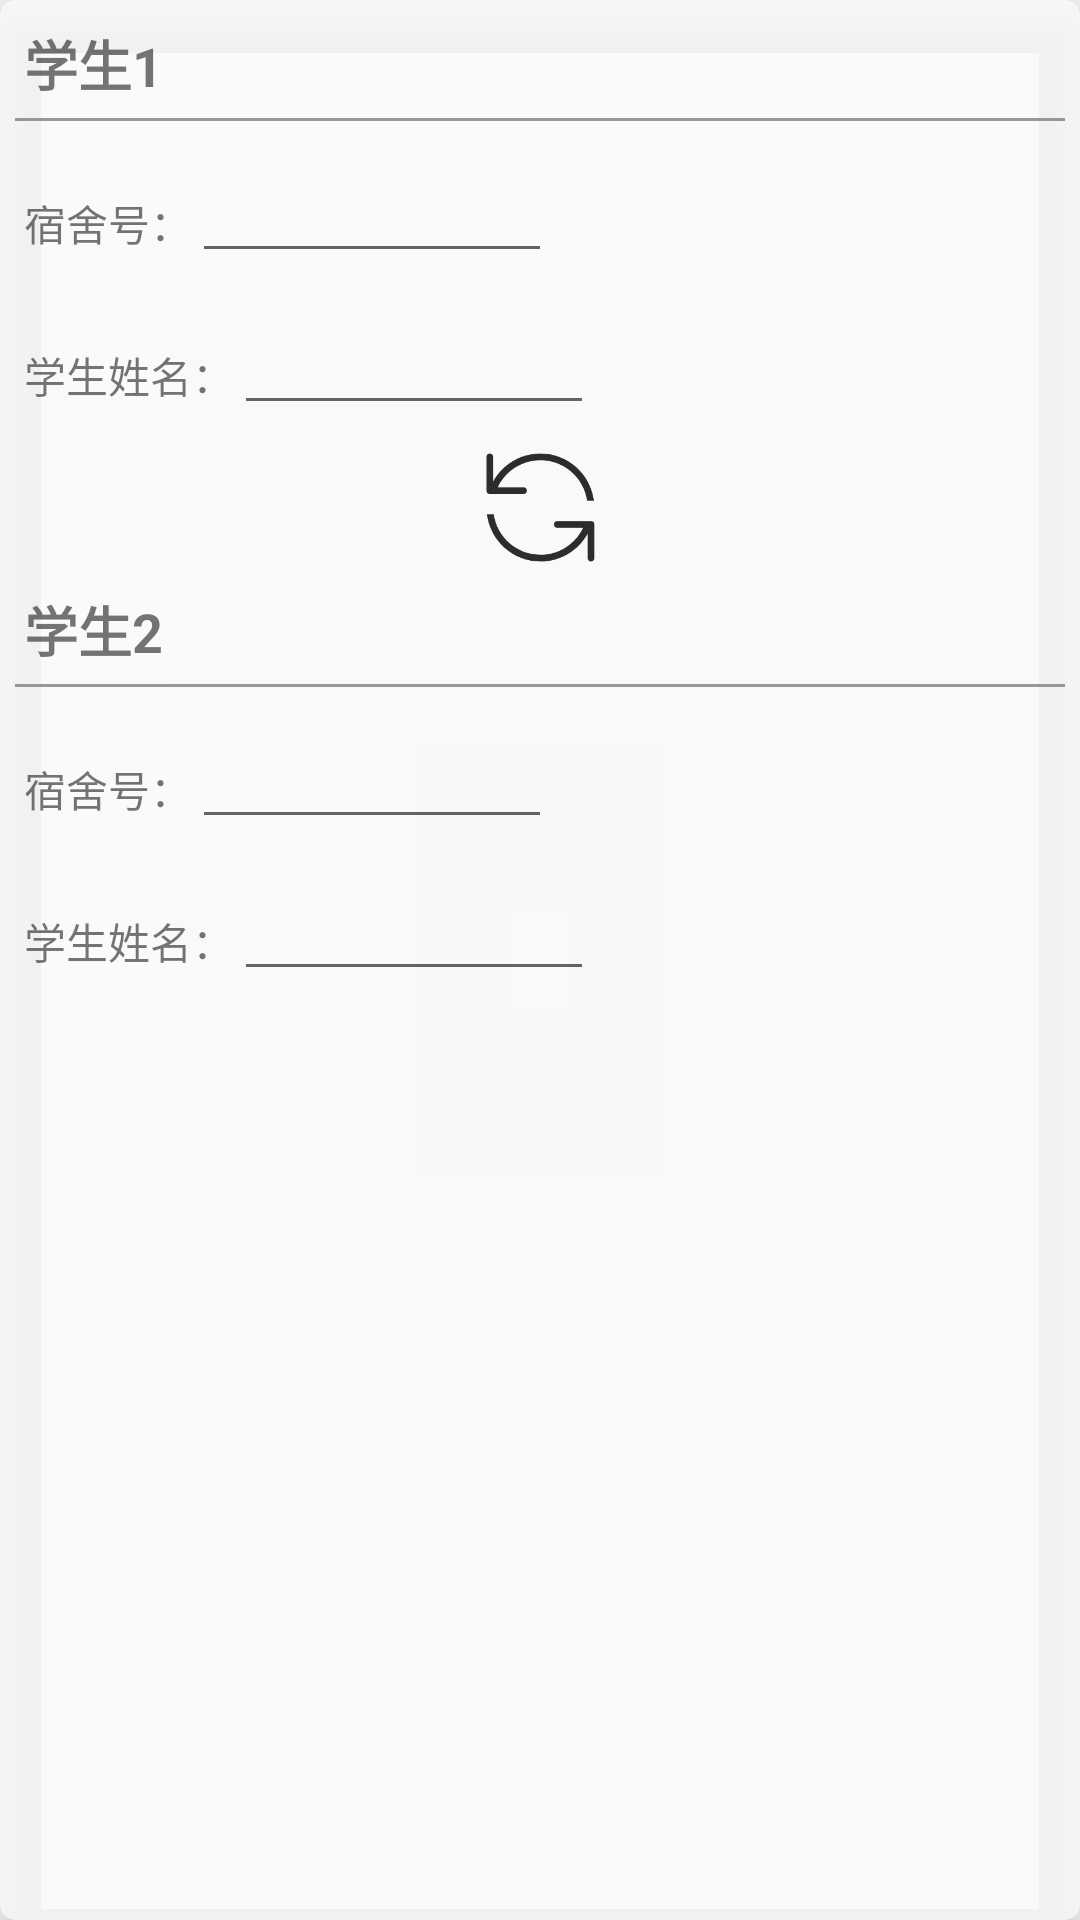

Point at icon controls on the screen. Image size 1080x1920, points as [x,y].
exchange: [540,507]
